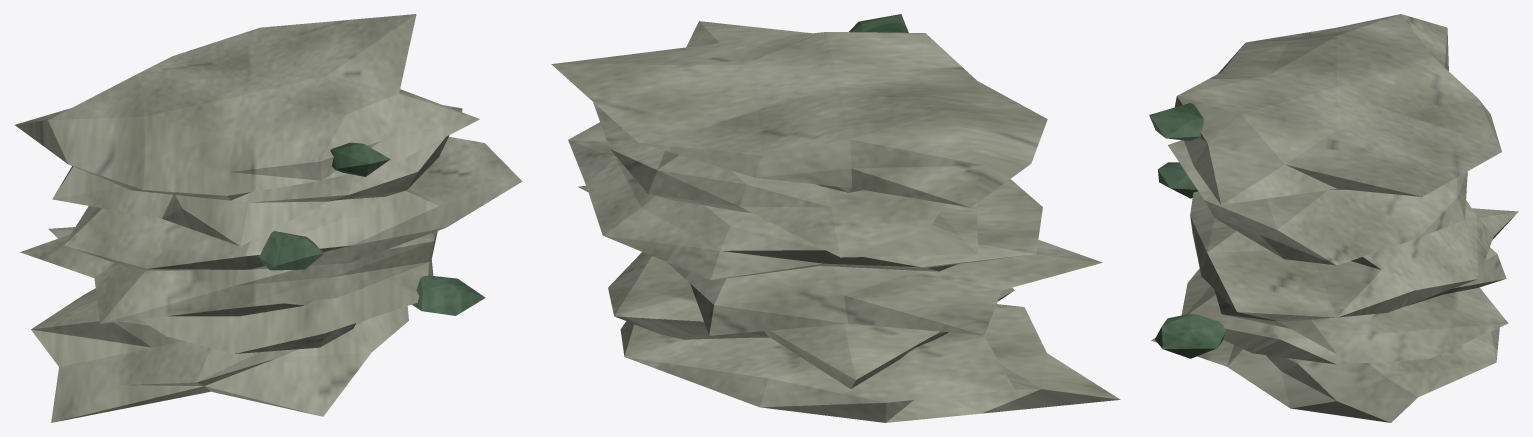
The model's file is 0050_layered_rock_25.glb.
3 views of the same model, side by side, from view 1: azimuth 30°, elevation 25°; view 2: azimuth 150°, elevation 25°; view 3: azimuth 270°, elevation 25° (orthographic). The views are drawn at different scales.
Parts seen in each view (by area): view 1: stone_light, moss; view 2: stone_light, moss; view 3: stone_light, moss.
Part boxes in pixels (<box>): stone_light: <box>15,14,522,422</box>; moss: <box>257,142,485,315</box>; stone_light: <box>551,21,1120,422</box>; moss: <box>849,14,908,32</box>; stone_light: <box>1151,14,1518,422</box>; moss: <box>1149,103,1226,358</box>.
Size of the model in its own units: 2.36 by 1.27 by 1.59.
2 materials, 2 textured.
